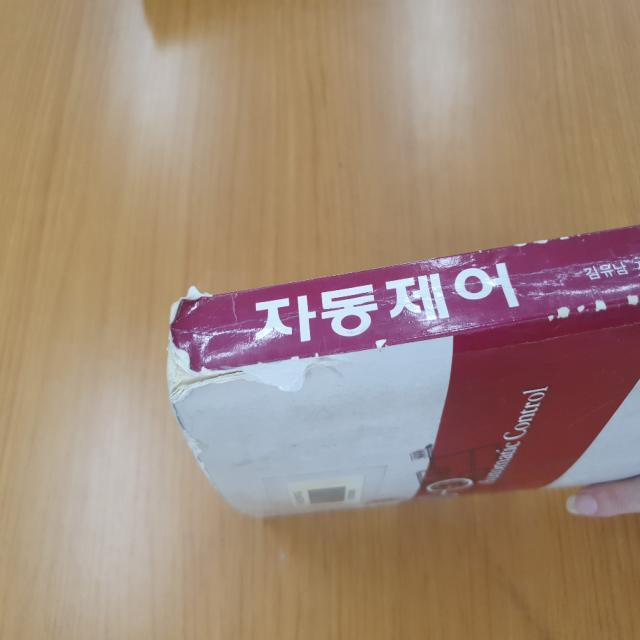Ripped: (162, 333, 352, 409), (158, 274, 221, 331)
Wornout: (174, 410, 223, 494), (547, 290, 639, 327), (509, 230, 596, 253), (364, 331, 392, 356)
